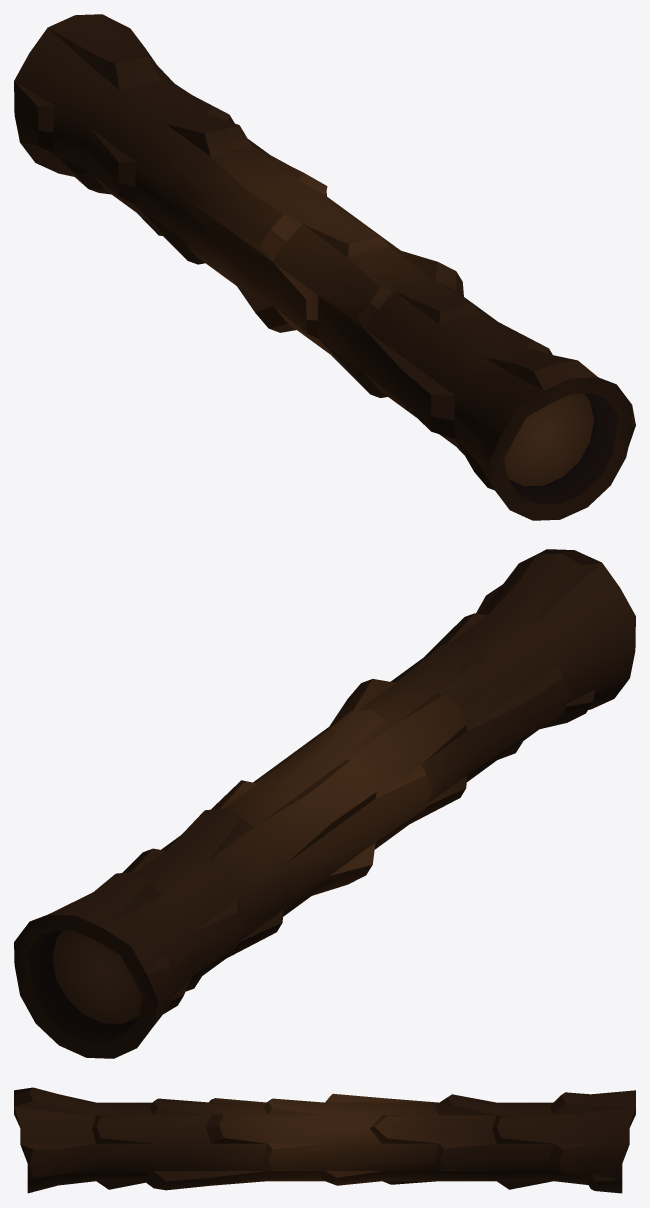
File: Log_1.fbx
The picture shows the model from 3 angles, top to bottom: view 1: azimuth 30°, elevation 25°; view 2: azimuth 150°, elevation 25°; view 3: azimuth 270°, elevation 25°; orthographic projection. The views are drawn at different scales.
Visible parts, largest first — view 1: Log_1; view 2: Log_1; view 3: Log_1.
Boxes of the visible parts, x1=… form: Log_1: x1=14, y1=14, x2=635, y2=520; Log_1: x1=14, y1=549, x2=635, y2=1058; Log_1: x1=14, y1=1087, x2=635, y2=1193.
Bounding box in the file's own units: 124 × 124 × 719.
